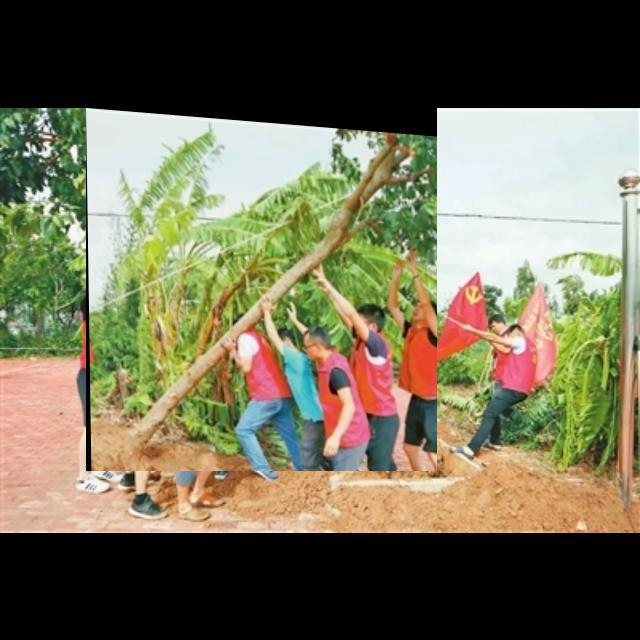fallen_tree: (86, 108, 438, 472)
